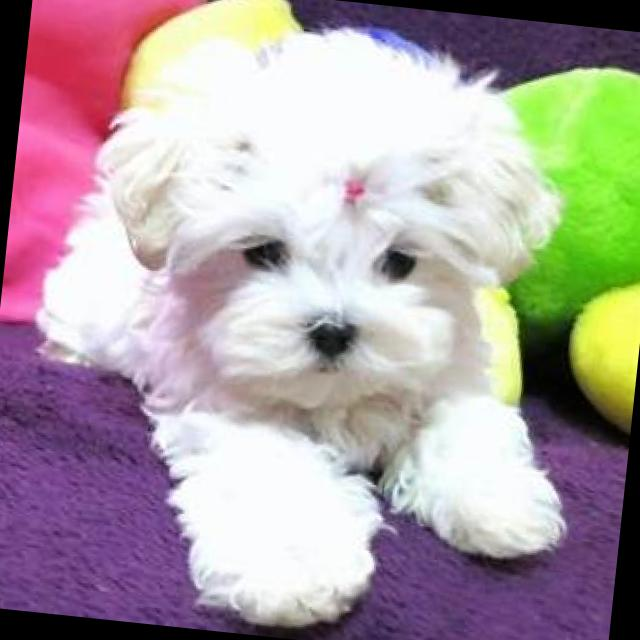animal: (3, 0, 618, 640)
